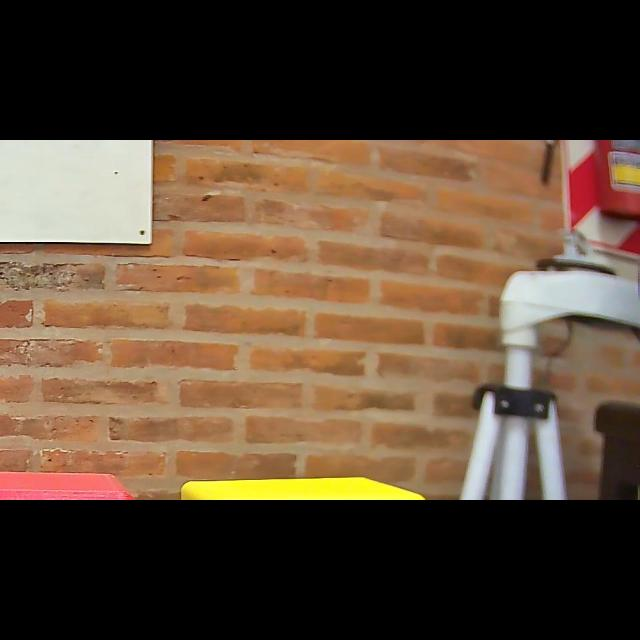redBox: (0, 470, 142, 500)
yellowBox: (172, 466, 430, 500)
